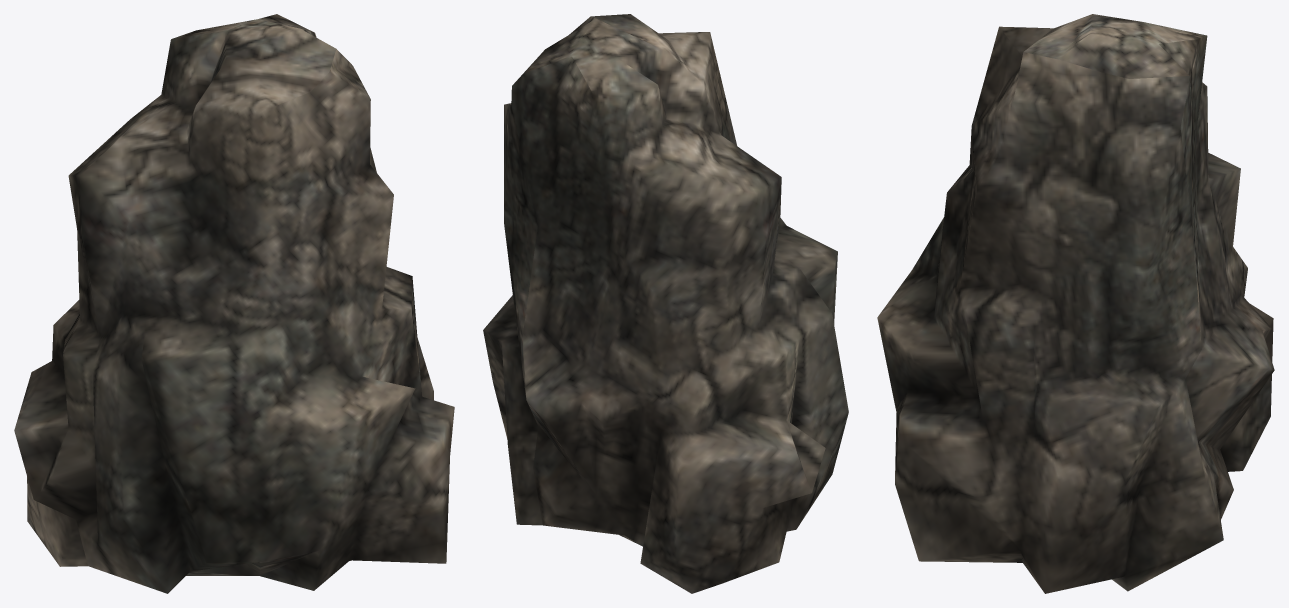
Rendered from Clif_rock_01.fbx.
The picture shows the model from 3 angles, left to right: view 1: azimuth 30°, elevation 25°; view 2: azimuth 150°, elevation 25°; view 3: azimuth 270°, elevation 25°; orthographic projection. The views are drawn at different scales.
Visible parts, largest first — view 1: Clif_rock_01; view 2: Clif_rock_01; view 3: Clif_rock_01.
Part boxes in pixels (x1=…): Clif_rock_01: x1=14, y1=14, x2=454, y2=593; Clif_rock_01: x1=483, y1=14, x2=848, y2=593; Clif_rock_01: x1=877, y1=14, x2=1274, y2=593.
Bounding box in the file's own units: 10.2 × 13.94 × 9.43.
1 material, 1 textured.
